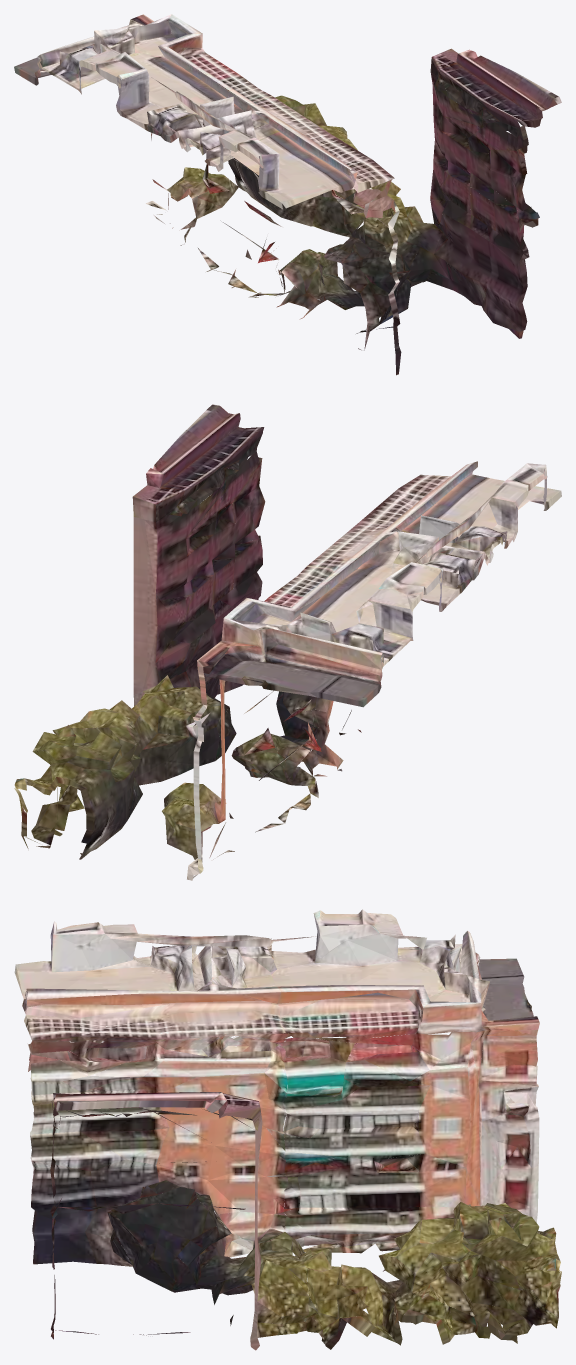
The picture shows the model from 3 angles, top to bottom: view 1: azimuth 30°, elevation 25°; view 2: azimuth 150°, elevation 25°; view 3: azimuth 270°, elevation 25°; orthographic projection. The views are drawn at different scales.
Parts seen in each view (by area): view 1: Mesh_0; view 2: Mesh_0; view 3: Mesh_0.
Boxes of the visible parts, x1=… form: Mesh_0: x1=14, y1=14, x2=561, y2=375; Mesh_0: x1=14, y1=404, x2=561, y2=880; Mesh_0: x1=14, y1=909, x2=561, y2=1350.
Bounding box in the file's own units: 33.46 × 23.42 × 41.39.
Materials: 2 (2 with a texture image).
